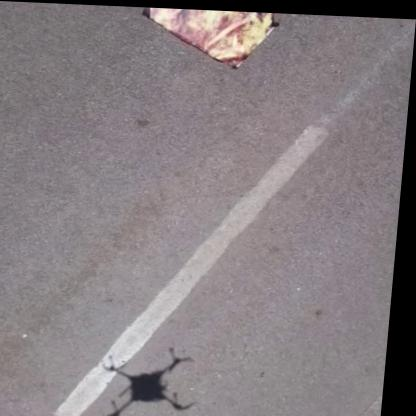fire-poster: (137, 5, 283, 68)
